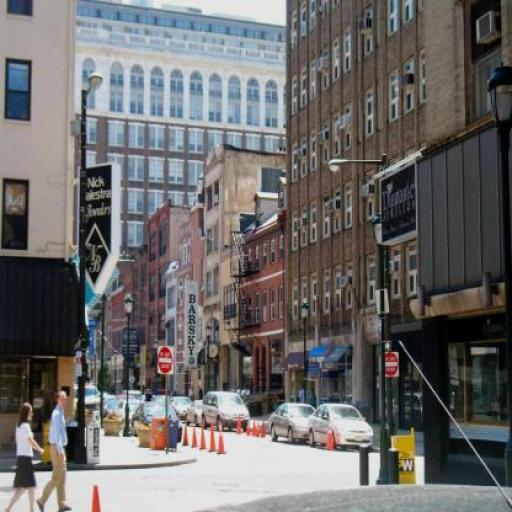street light: (328, 154, 392, 423), (76, 74, 102, 463), (373, 210, 400, 488), (124, 298, 137, 440), (300, 300, 310, 414)
